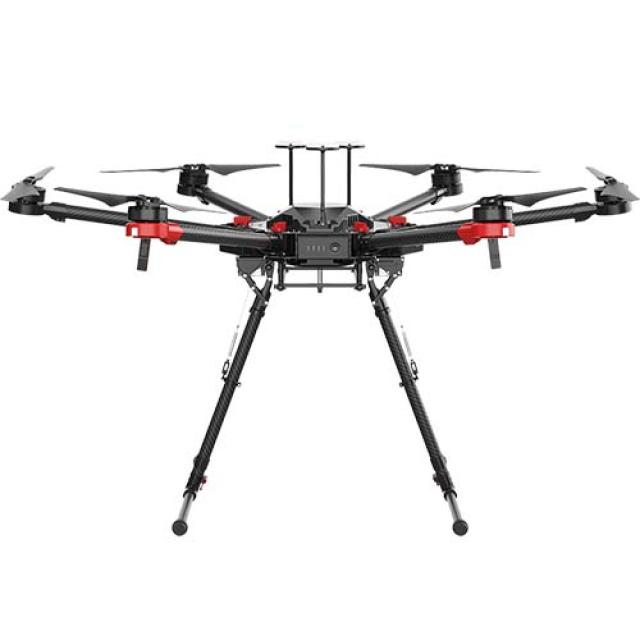drone: (1, 135, 640, 325)
